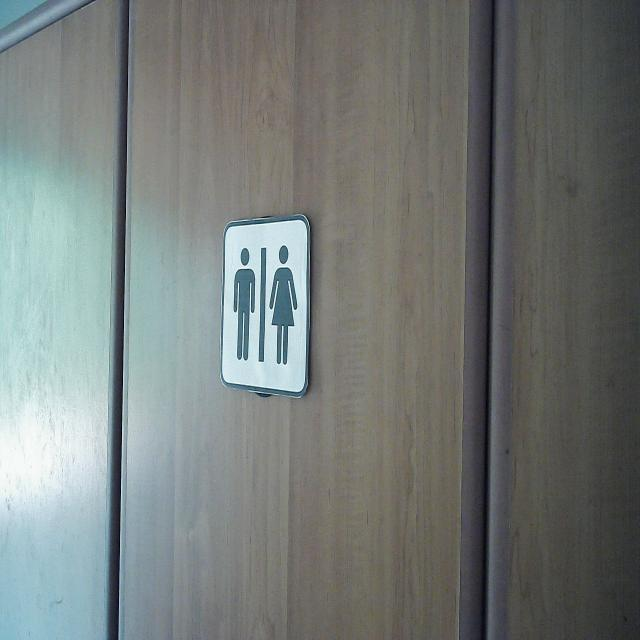restroom: (218, 209, 314, 401)
